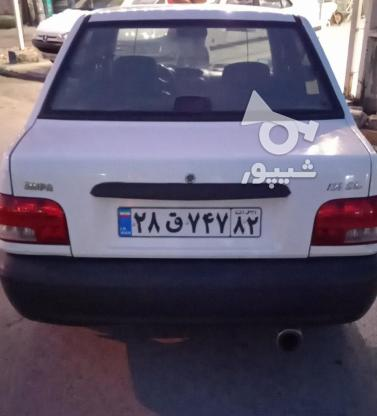car: (118, 208, 264, 237)
